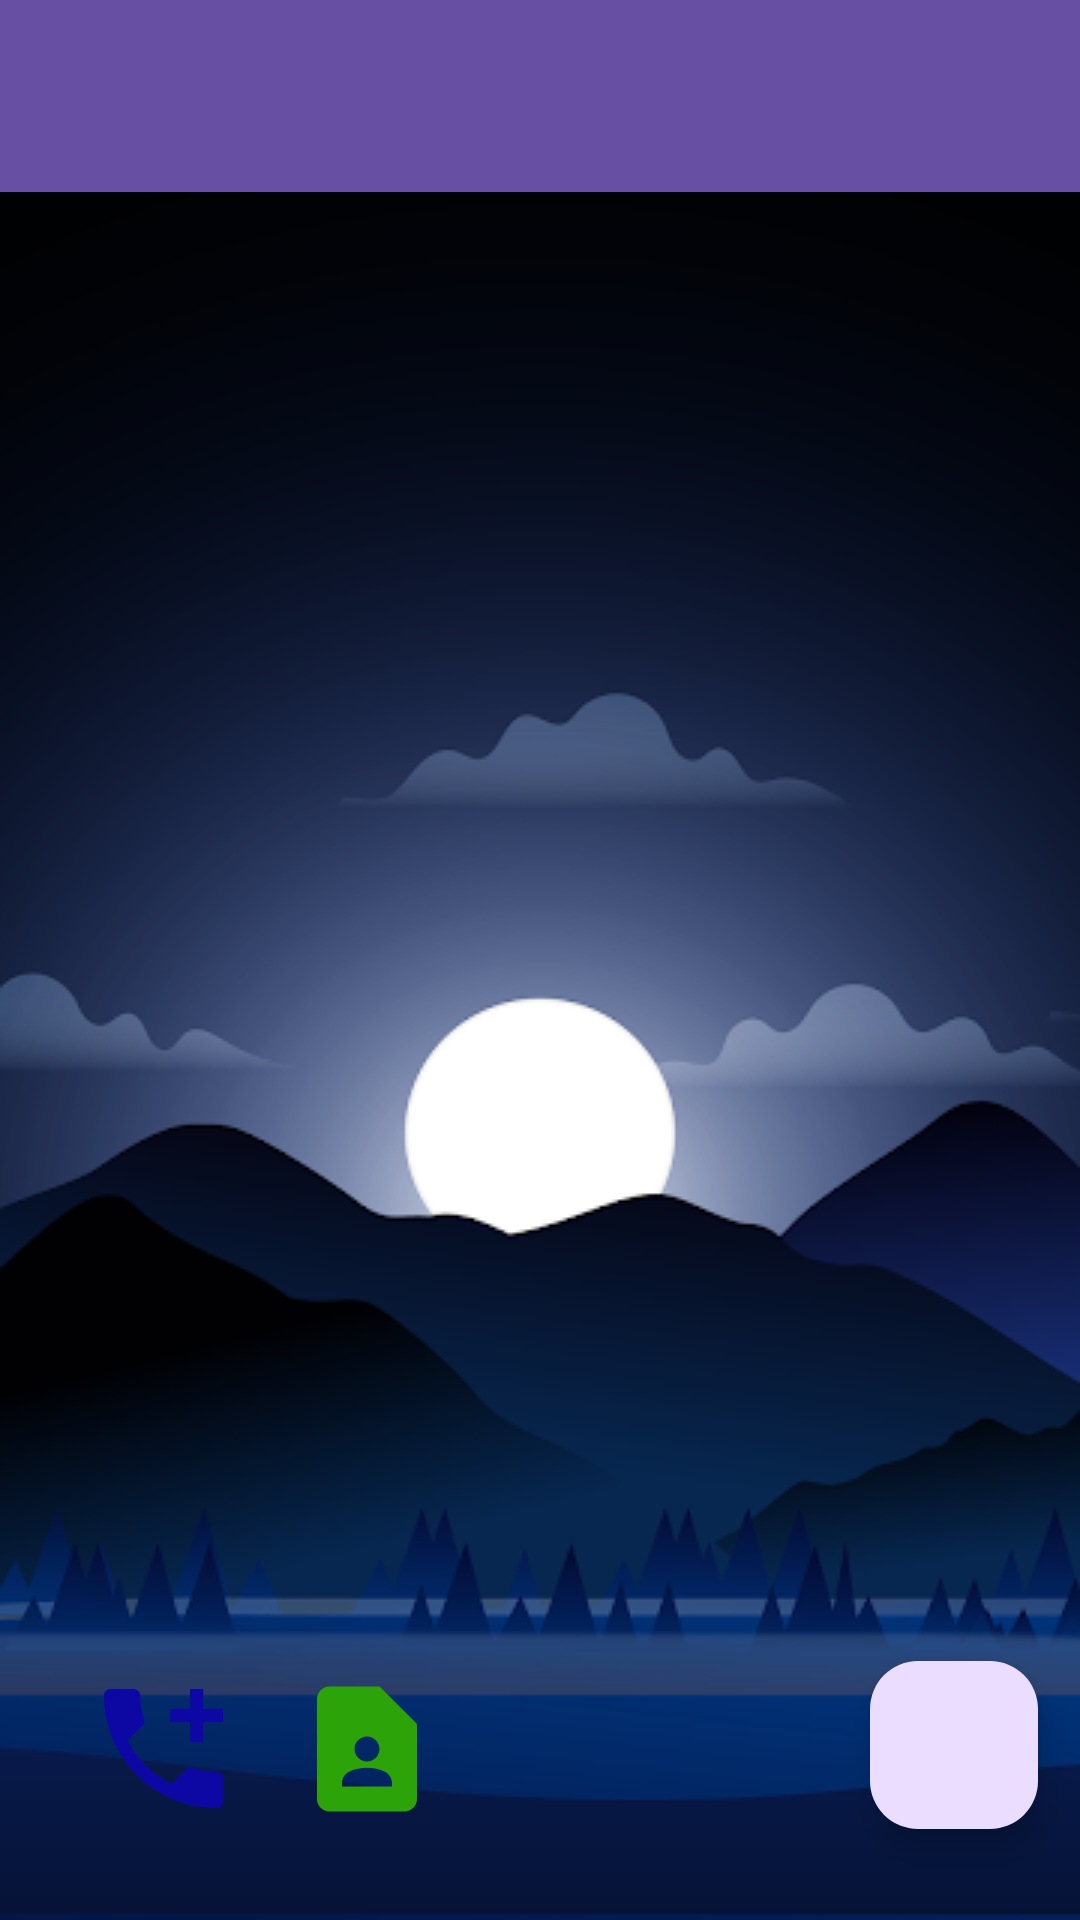

Point at icon controls on the screen. Image size 1080×1920, points as [x,y].
Contact Book: [367,1749]
